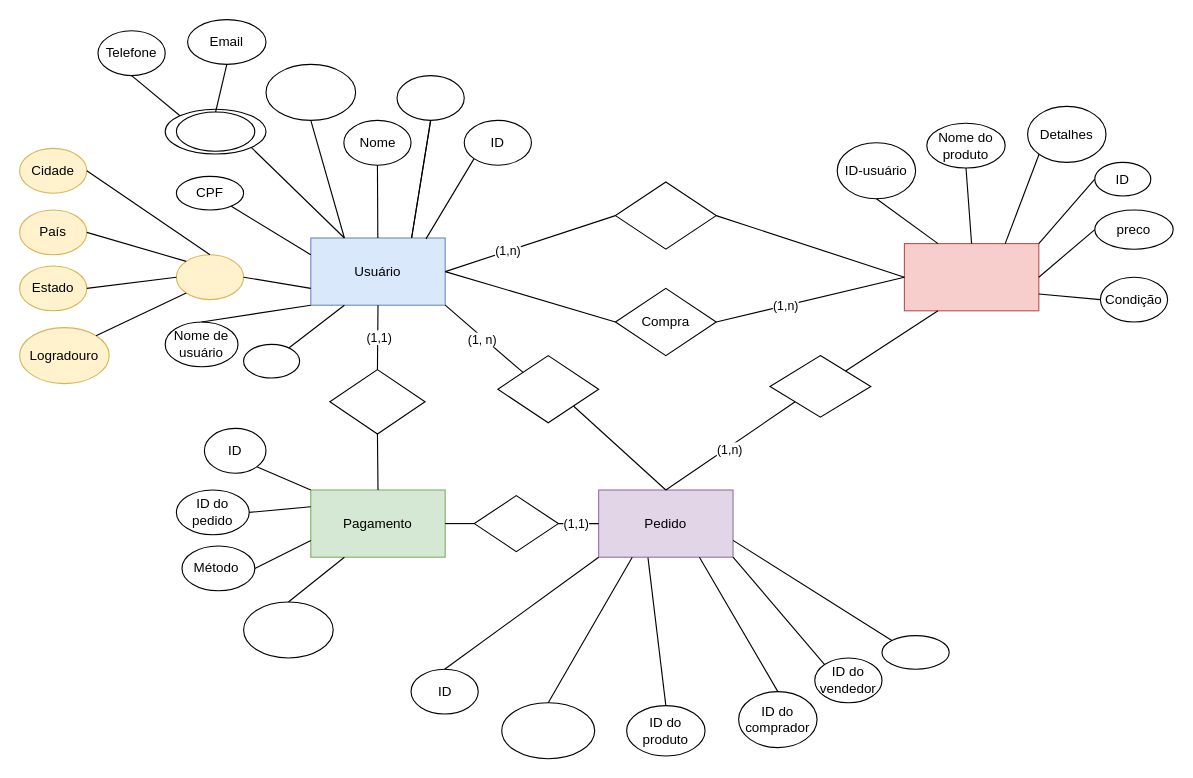
The diagram is 1193 pixels wide and 778 high, and some of its shapes have lost their labels. The shapes that lost their labels are listed below. From the top down, each one's centre as x and y in pixels, then its label:
[310,91]: Data de nascimento
[430,97]: Sexo
[215,131]: Contatos
[665,215]: Vende
[209,277]: Endereco
[971,276]: Produto
[271,360]: Senha
[377,401]: Efetua
[548,388]: Realiza
[820,385]: Contém
[515,523]: Possui
[287,629]: Data do pagamento
[915,651]: Valor
[548,730]: Endereço de entrega
